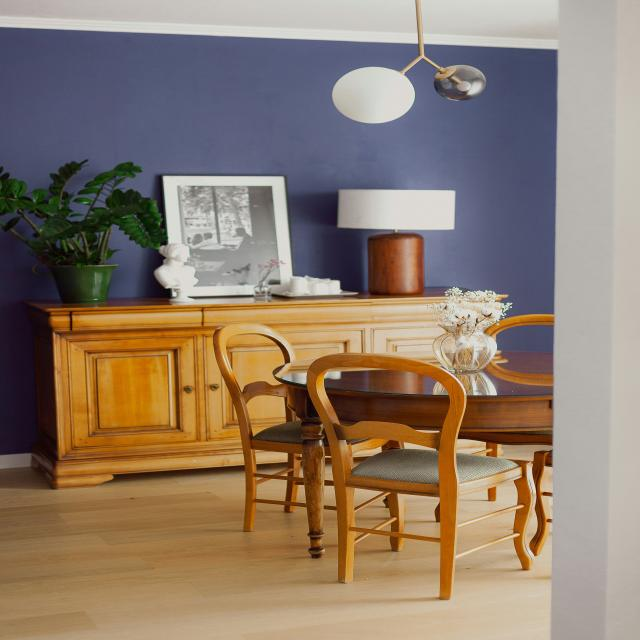floor: (0, 465, 554, 640), (458, 480, 518, 524), (457, 510, 516, 554), (403, 494, 441, 539), (354, 496, 391, 529), (256, 478, 287, 501), (354, 488, 384, 508), (527, 509, 538, 546), (256, 462, 287, 474), (324, 486, 336, 506), (296, 485, 306, 503), (325, 461, 334, 481), (547, 467, 553, 493), (548, 497, 553, 519), (379, 523, 391, 532), (299, 462, 304, 477), (354, 462, 362, 467), (357, 532, 364, 537), (256, 477, 263, 481), (280, 473, 287, 476)
